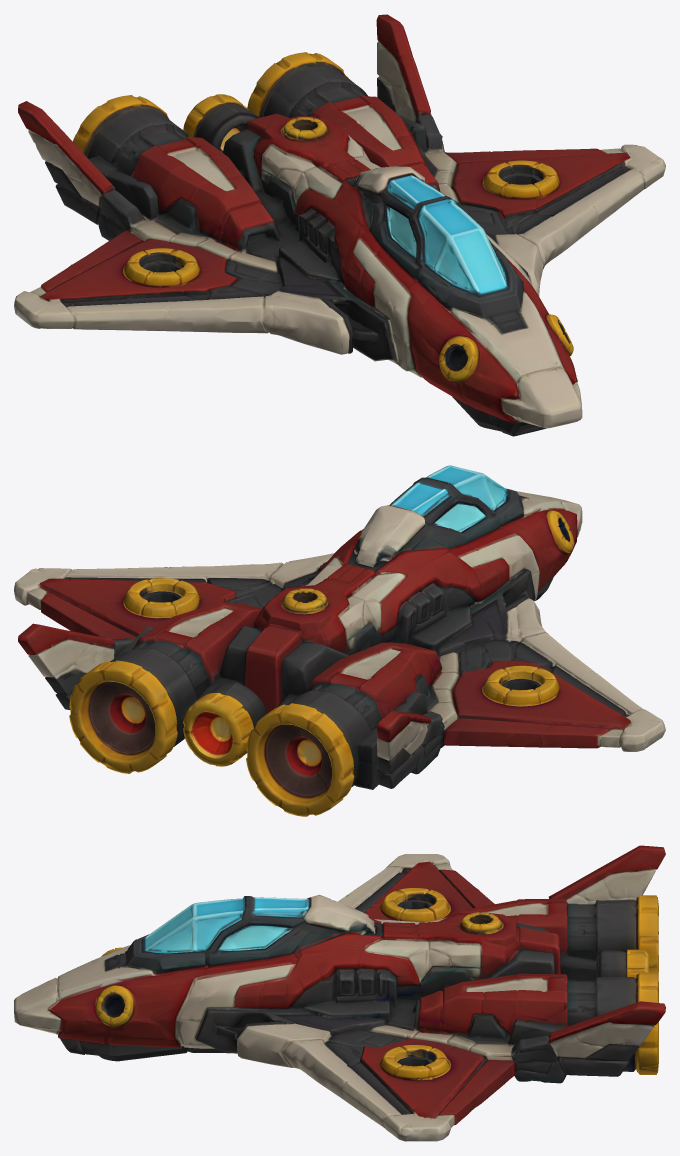
The model's file is ace.glb.
The picture shows the model from 3 angles, top to bottom: view 1: azimuth 30°, elevation 25°; view 2: azimuth 150°, elevation 25°; view 3: azimuth 270°, elevation 25°; orthographic projection. The views are drawn at different scales.
Parts seen in each view (by area): view 1: tripo_node_3bed93b7-08bb-4f5d-a74b-819e0cf7dc96; view 2: tripo_node_3bed93b7-08bb-4f5d-a74b-819e0cf7dc96; view 3: tripo_node_3bed93b7-08bb-4f5d-a74b-819e0cf7dc96.
Boxes of the visible parts, <box> form: tripo_node_3bed93b7-08bb-4f5d-a74b-819e0cf7dc96: <box>14,14,665,436</box>; tripo_node_3bed93b7-08bb-4f5d-a74b-819e0cf7dc96: <box>14,465,665,816</box>; tripo_node_3bed93b7-08bb-4f5d-a74b-819e0cf7dc96: <box>14,845,665,1141</box>.
Size of the model in its own units: 0.9798 by 0.2444 by 0.9728.
Materials: 1 (1 with a texture image).
